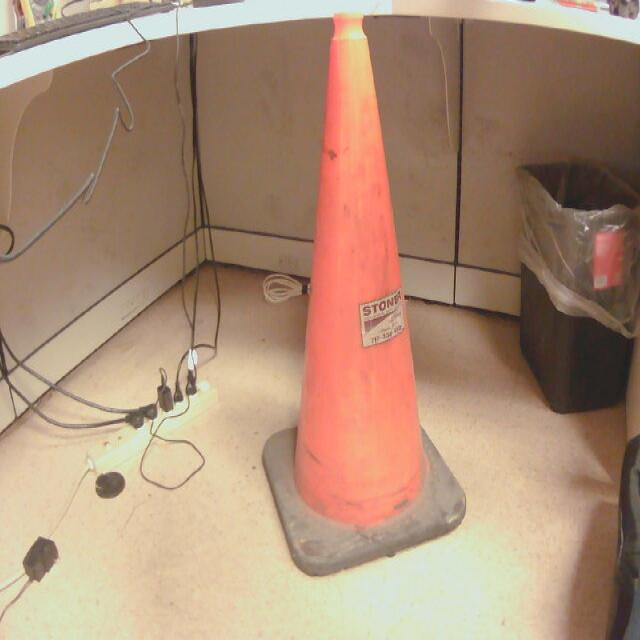traffic cone: (265, 16, 466, 580)
